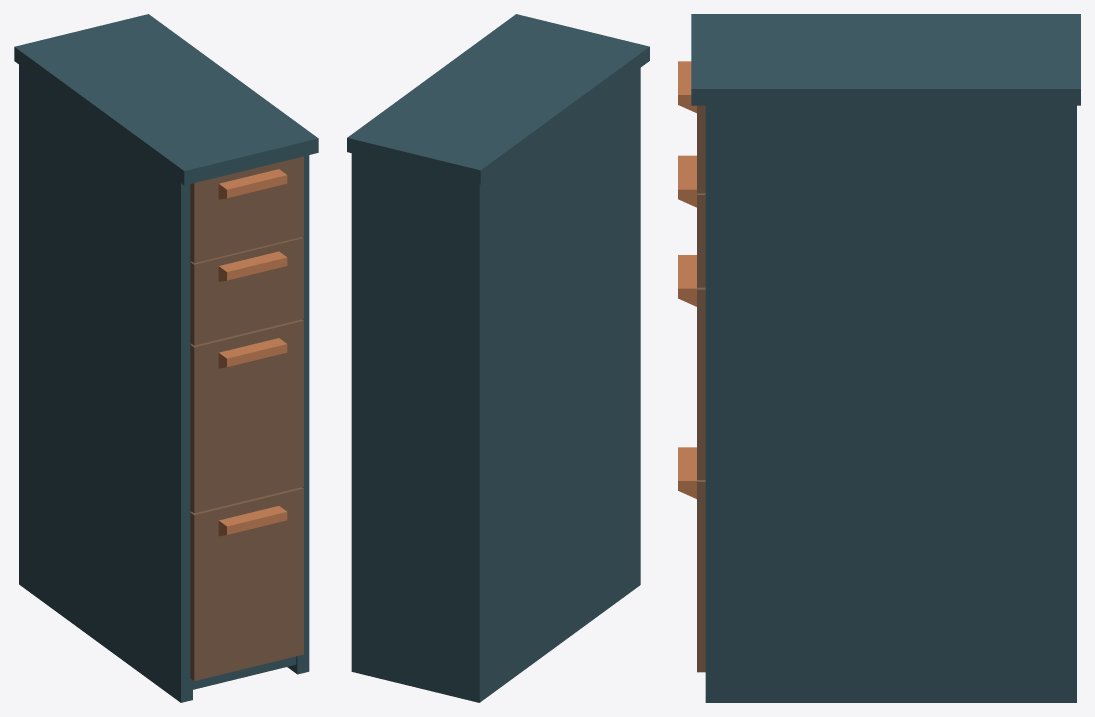
File: file_cabinet_small.glb
3 views of the same model, side by side, from view 1: azimuth 30°, elevation 25°; view 2: azimuth 150°, elevation 25°; view 3: azimuth 270°, elevation 25° (orthographic). The views are drawn at different scales.
Visible parts, largest first — view 1: file_cabinet_small, Drawer B 1, Drawer B 2, Drawer A 2, Drawer A 1; view 2: file_cabinet_small; view 3: file_cabinet_small, Drawer B 2, Drawer B 1, Drawer A 2, Drawer A 1.
Boxes of the visible parts, left/top/right/bottom form: file_cabinet_small: left=14, top=14, right=318, bottom=702; Drawer B 1: left=190, top=319, right=303, bottom=513; Drawer B 2: left=190, top=487, right=303, bottom=680; Drawer A 2: left=190, top=237, right=303, bottom=345; Drawer A 1: left=190, top=156, right=303, bottom=263; file_cabinet_small: left=347, top=14, right=649, bottom=702; file_cabinet_small: left=691, top=14, right=1080, bottom=702; Drawer B 2: left=678, top=447, right=705, bottom=672; Drawer B 1: left=678, top=255, right=705, bottom=479; Drawer A 2: left=678, top=155, right=705, bottom=287; Drawer A 1: left=678, top=61, right=705, bottom=193.
Size of the model in its own units: 0.2747 by 1.05 by 0.6228.
1 material, 1 textured.
